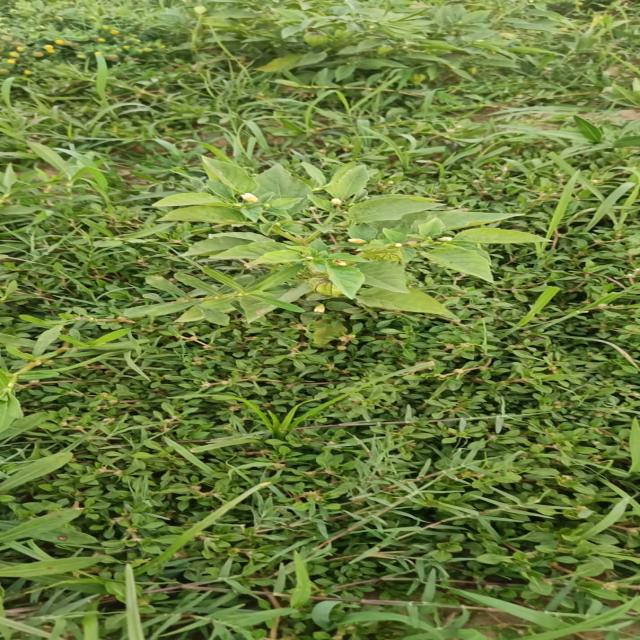plant: (124, 155, 550, 325)
